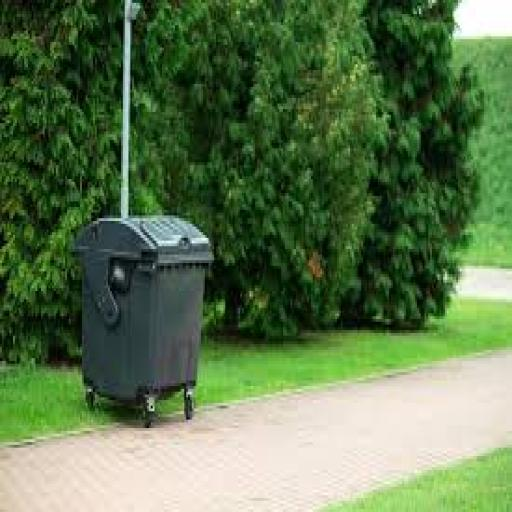poubelle_vide: (50, 146, 234, 444)
